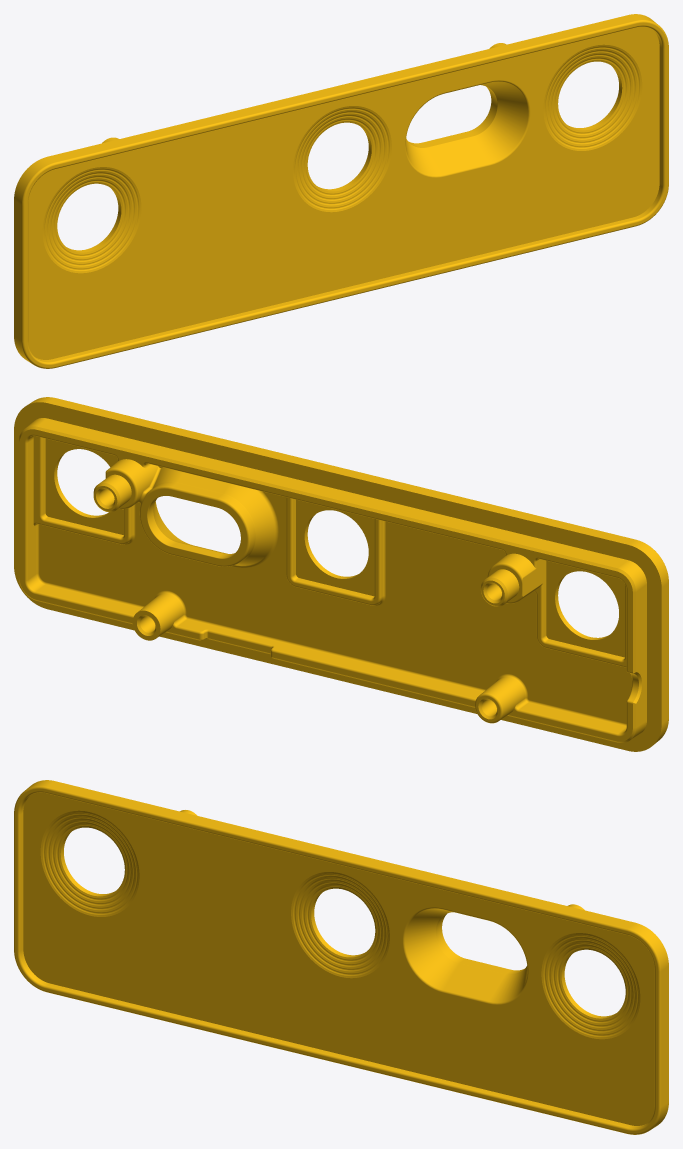
3 renders of one model, top to bottom at view 1: azimuth 30°, elevation 25°; view 2: azimuth 150°, elevation 25°; view 3: azimuth 330°, elevation 25°, orthographic.
Parts seen in each view (by area): view 1: mesh11432, mesh11419, mesh11403, mesh11393, mesh11423, mesh11412, mesh11424, mesh11397, mesh11416, mesh11431, mesh11409, mesh11401 (+19 smaller); view 2: mesh11279, mesh11402, mesh11101, mesh11267, mesh11403, mesh11353, mesh11055, mesh11314, mesh11239, mesh11102, mesh11381, mesh11174 (+21 smaller); view 3: mesh11432, mesh11419, mesh11403, mesh11401, mesh11423, mesh11412, mesh11424, mesh11397, mesh11431, mesh11416, mesh11405, mesh11393 (+19 smaller).
Part boxes in pixels (left/top/right/bottom): mesh11432: left=28, top=26, right=659, bottom=359; mesh11419: left=24, top=23, right=667, bottom=367; mesh11403: left=47, top=15, right=634, bottom=162; mesh11393: left=473, top=81, right=528, bottom=162; mesh11423: left=55, top=219, right=636, bottom=364; mesh11412: left=55, top=21, right=636, bottom=165; mesh11424: left=52, top=217, right=635, bottom=361; mesh11397: left=428, top=136, right=489, bottom=174; mesh11416: left=56, top=225, right=636, bottom=367; mesh11431: left=55, top=26, right=636, bottom=168; mesh11409: left=14, top=200, right=21, bottom=340; mesh11401: left=406, top=138, right=443, bottom=175; mesh11279: left=39, top=491, right=632, bottom=723; mesh11402: left=14, top=402, right=661, bottom=751; mesh11101: left=38, top=418, right=627, bottom=567; mesh11267: left=19, top=429, right=632, bottom=672; mesh11403: left=48, top=398, right=634, bottom=544; mesh11353: left=296, top=499, right=374, bottom=596; mesh11055: left=546, top=560, right=624, bottom=657; mesh11314: left=45, top=438, right=123, bottom=535; mesh11239: left=178, top=620, right=482, bottom=698; mesh11102: left=36, top=426, right=617, bottom=570; mesh11381: left=141, top=489, right=247, bottom=565; mesh11174: left=223, top=483, right=274, bottom=565; mesh11432: left=23, top=792, right=654, bottom=1125; mesh11419: left=15, top=789, right=658, bottom=1133; mesh11403: left=48, top=781, right=635, bottom=928; mesh11401: left=405, top=908, right=459, bottom=990; mesh11423: left=46, top=985, right=627, bottom=1130; mesh11412: left=46, top=787, right=627, bottom=931; mesh11424: left=47, top=983, right=630, bottom=1127; mesh11397: left=444, top=963, right=504, bottom=1001; mesh11431: left=46, top=792, right=627, bottom=934; mesh11416: left=46, top=991, right=626, bottom=1133; mesh11405: left=661, top=966, right=668, bottom=1106; mesh11393: left=489, top=965, right=527, bottom=1002.
Size of the model in its own units: 0.097 by 0.0295 by 0.0117.
